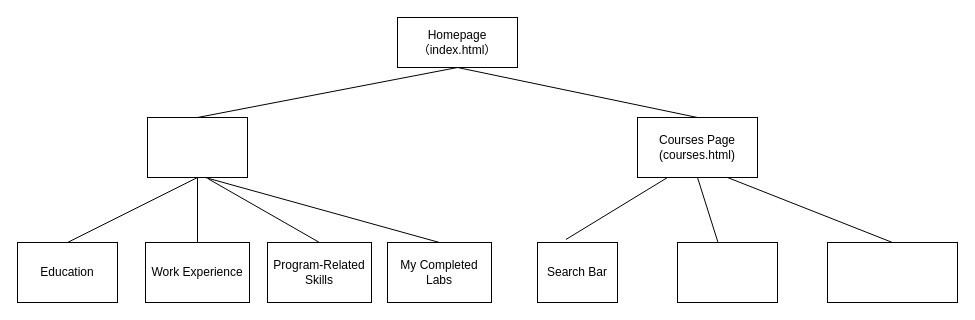
Some shapes in this 975 by 320 pixel diagram are drawn without their labels. Here are the shapes that lost their labels. From the top down, the box of each, then its label:
(146, 116, 248, 178): Resume Page (resume.html)
(676, 242, 778, 302): Course Filters
(826, 242, 958, 302): List of Completed Courses
